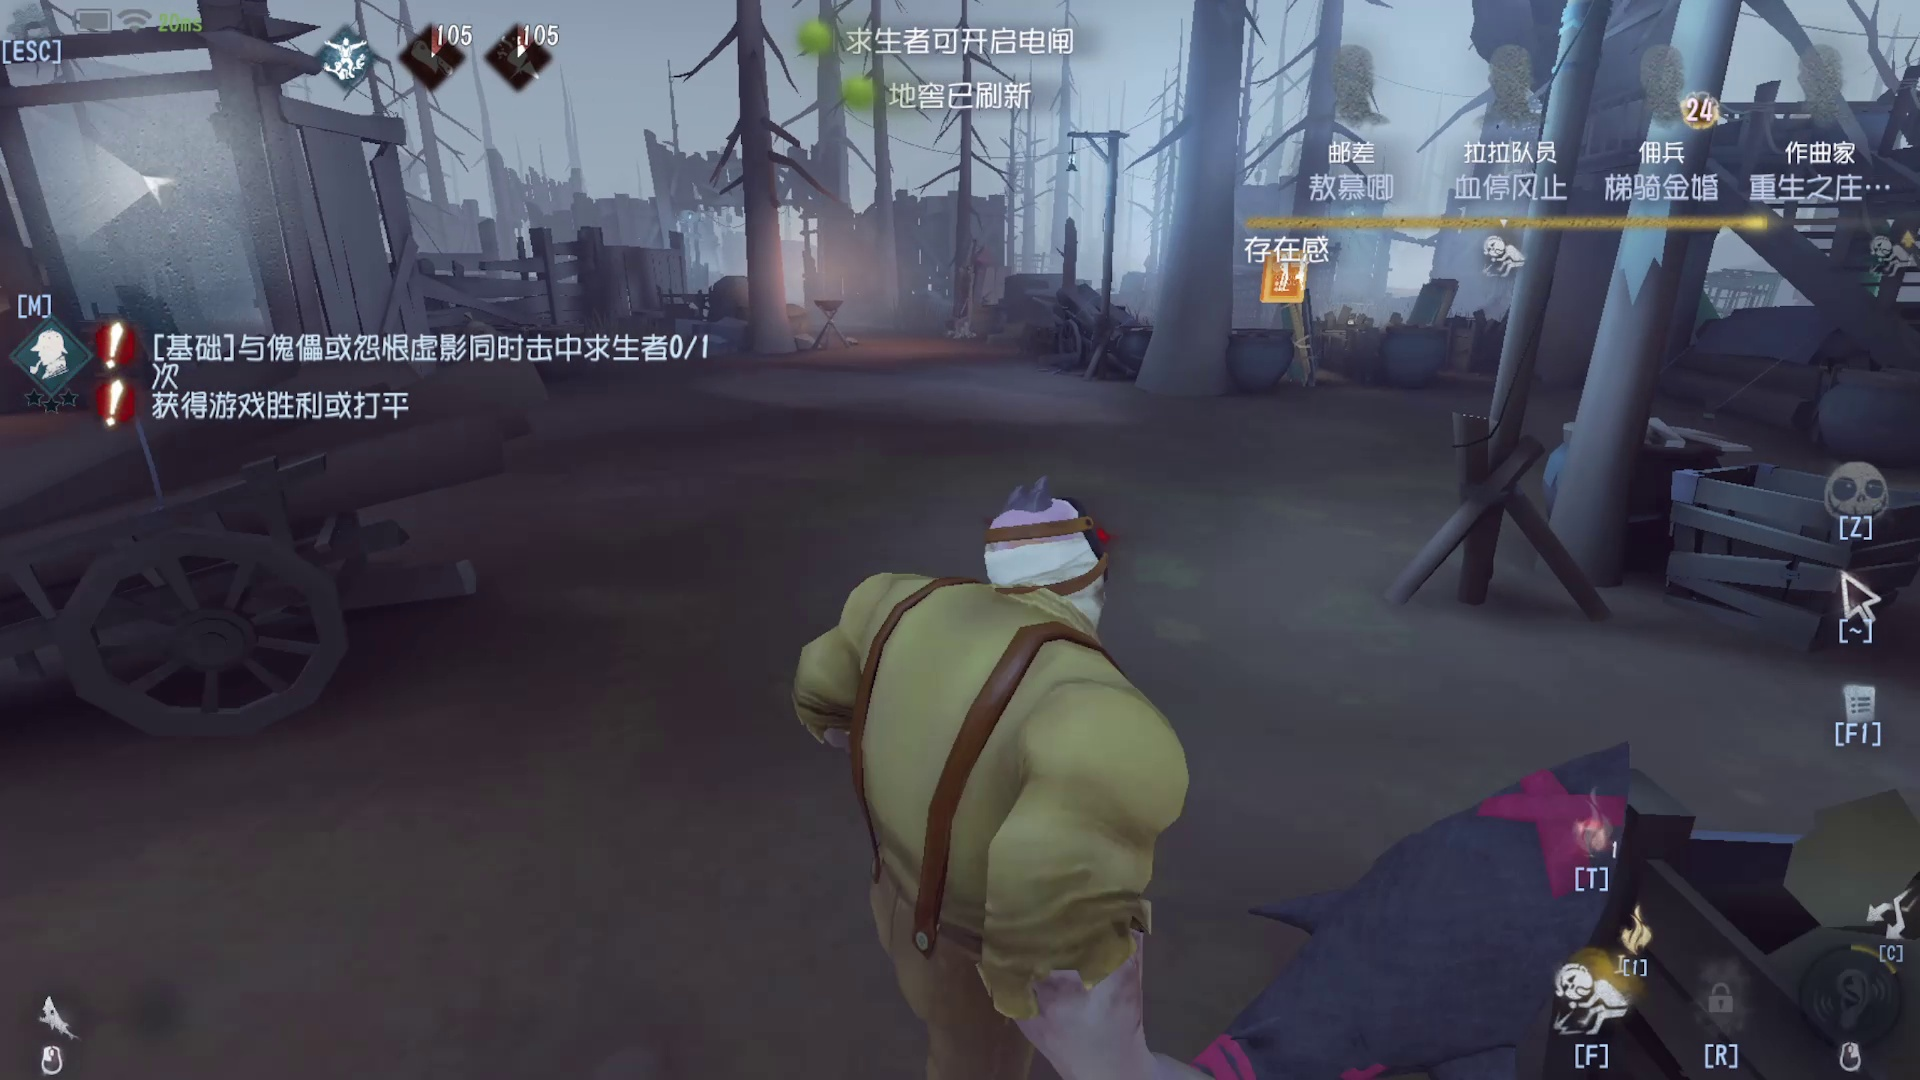木板: (1404, 264, 1460, 363)
求生者: (1269, 280, 1335, 392), (1261, 225, 1323, 306)
狂欢之椅: (942, 237, 1001, 363)
设置: (1, 1, 78, 71)
